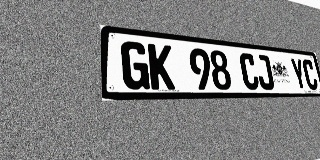8: (209, 50, 232, 90)
9: (188, 47, 213, 90)
C: (239, 53, 260, 90), (301, 59, 319, 90)
G: (121, 41, 150, 90)
J: (254, 54, 275, 90)
K: (148, 43, 175, 90)
Y: (289, 58, 308, 90)
